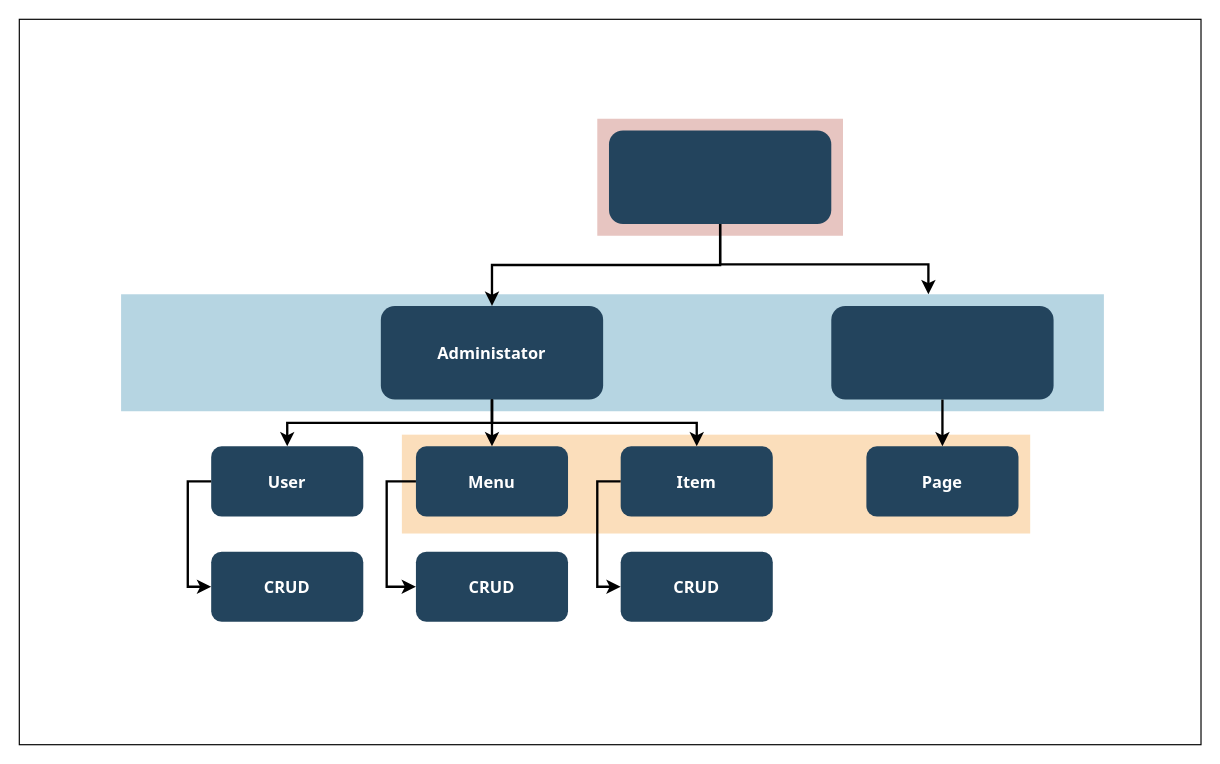
The diagram is 1220 pixels wide and 764 high, and some of its shapes have lost their labels. Here are the shapes that lost their labels. From the top down, the centre of each, then its label:
At (x=719, y=176): "Generic CRM".
At (x=942, y=352): "Site".
